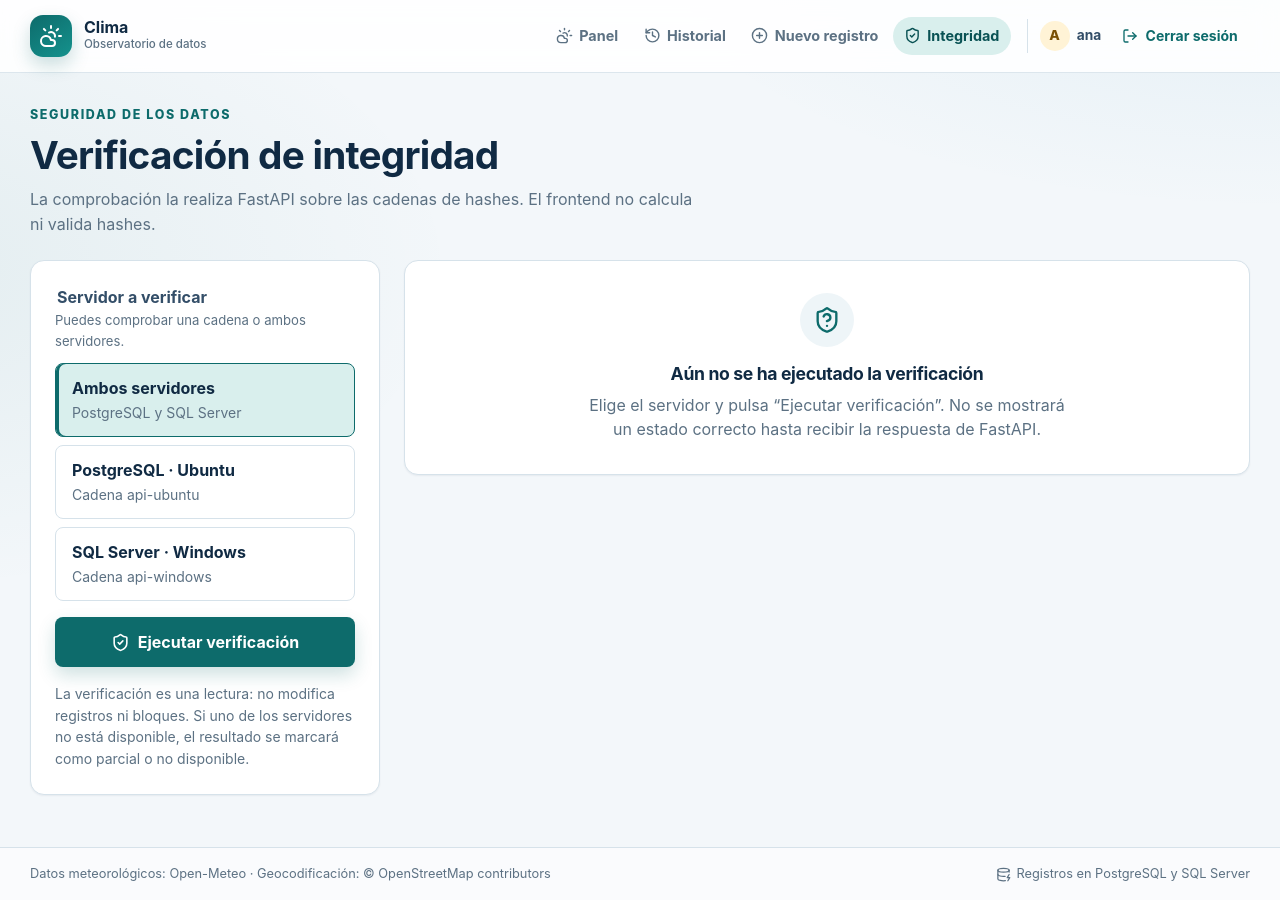
Test: verificación de integridad › muestra el resultado real de ambas cadenas
The image size is (1280, 900).
Check: the heading "Verificación de integridad" is shown, box x1=30 y1=131 x2=498 y2=178
Click the button "Ejecutar verificación". click: (205, 642)
box: x1=55 y1=617 x2=355 y2=667
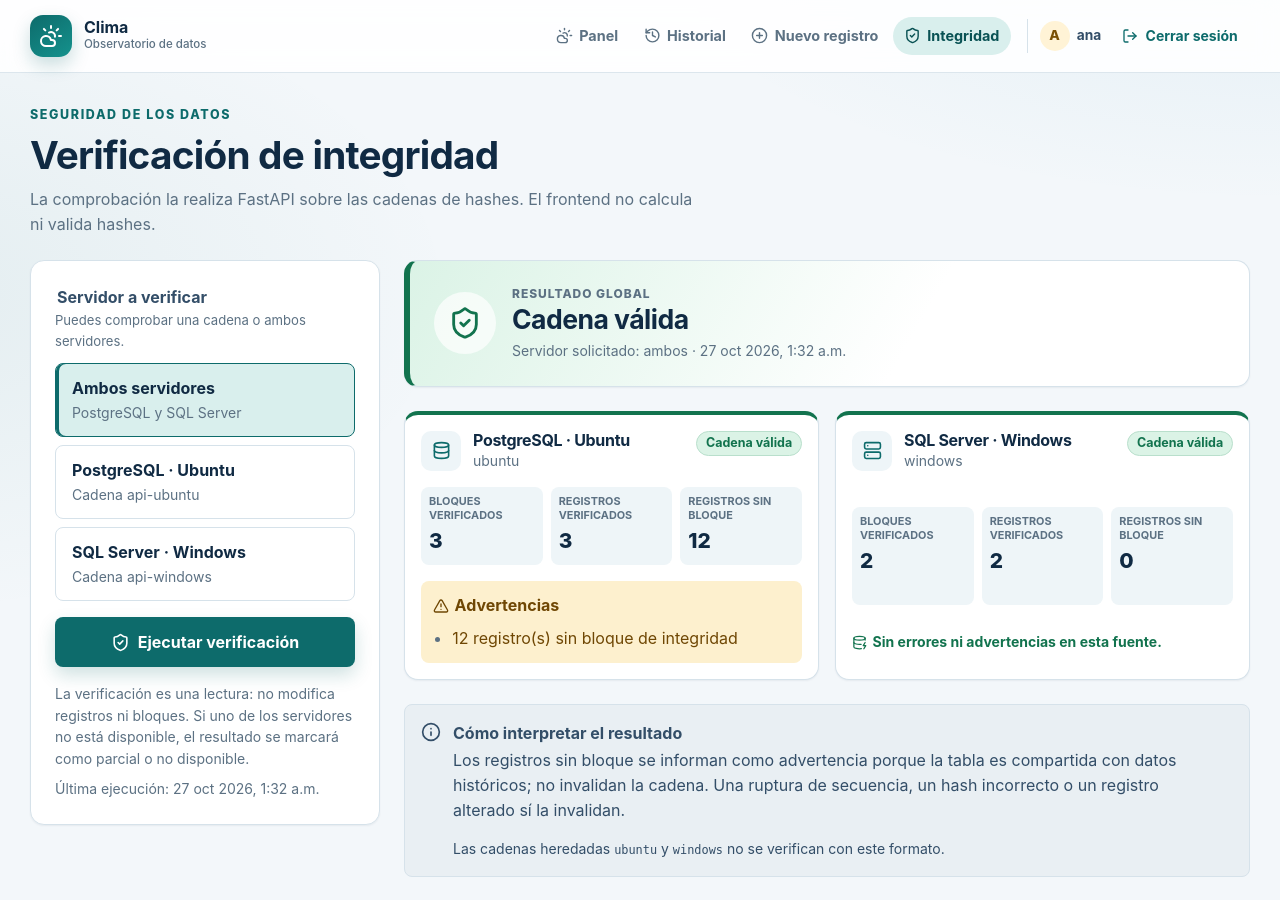
Check: the text "Resultado global" is shown, box x1=512 y1=286 x2=651 y2=301
Check: the heading "Cadena válida" is shown, box x1=512 y1=303 x2=688 y2=335
Check: the list item "12 registro(s) sin bloque de integridad" is shown, box x1=452 y1=628 x2=738 y2=648
